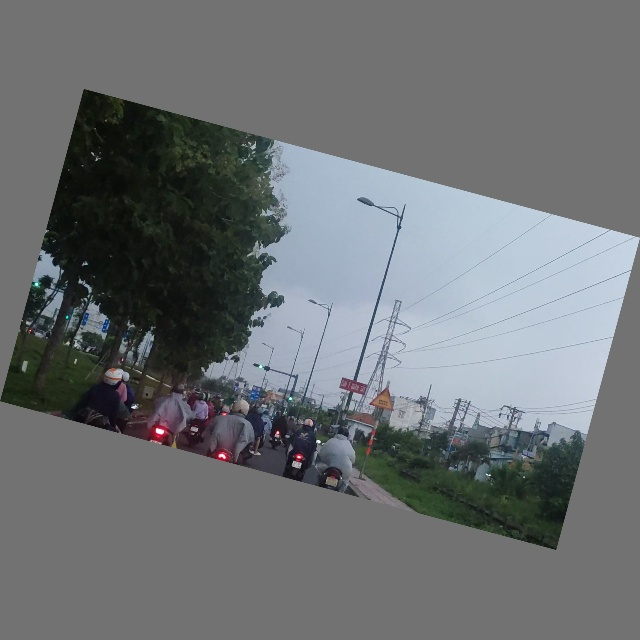W.210: (369, 385, 398, 412)
